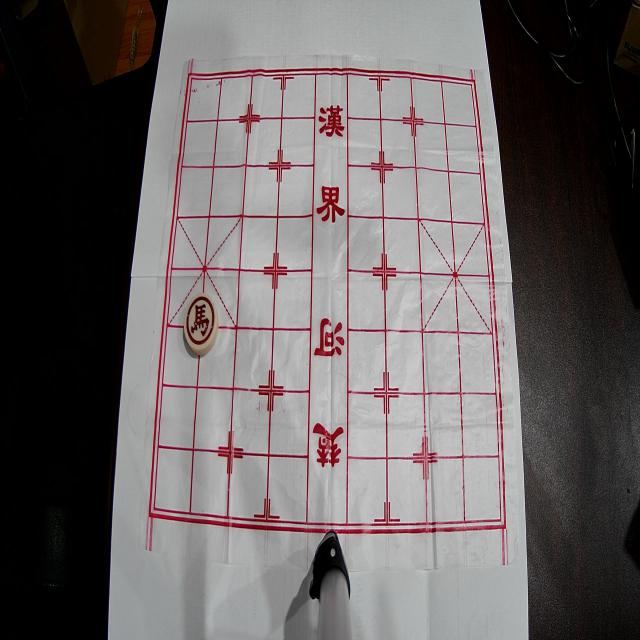red-horse: (184, 293, 218, 355)
